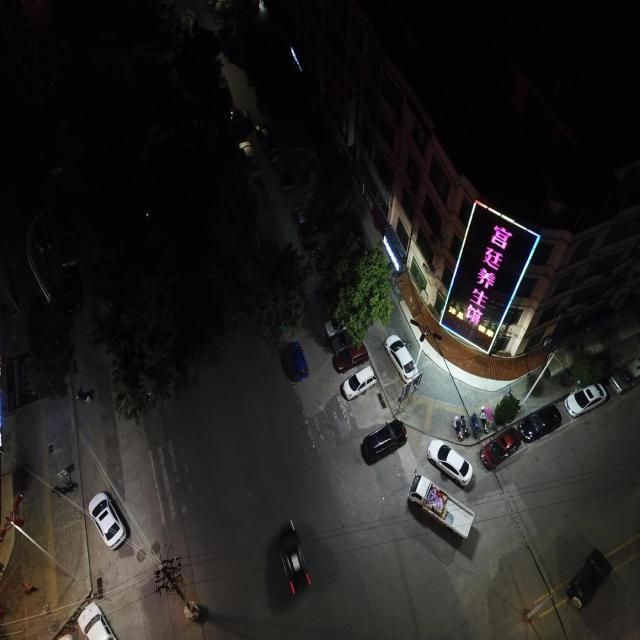car: (565, 547, 613, 611), (88, 491, 126, 550), (427, 439, 472, 487), (361, 419, 407, 464), (479, 427, 522, 471), (383, 334, 419, 384), (518, 402, 561, 443), (564, 382, 607, 418), (340, 365, 377, 401), (280, 342, 310, 382)
tree: (330, 233, 395, 350), (493, 389, 520, 427)
